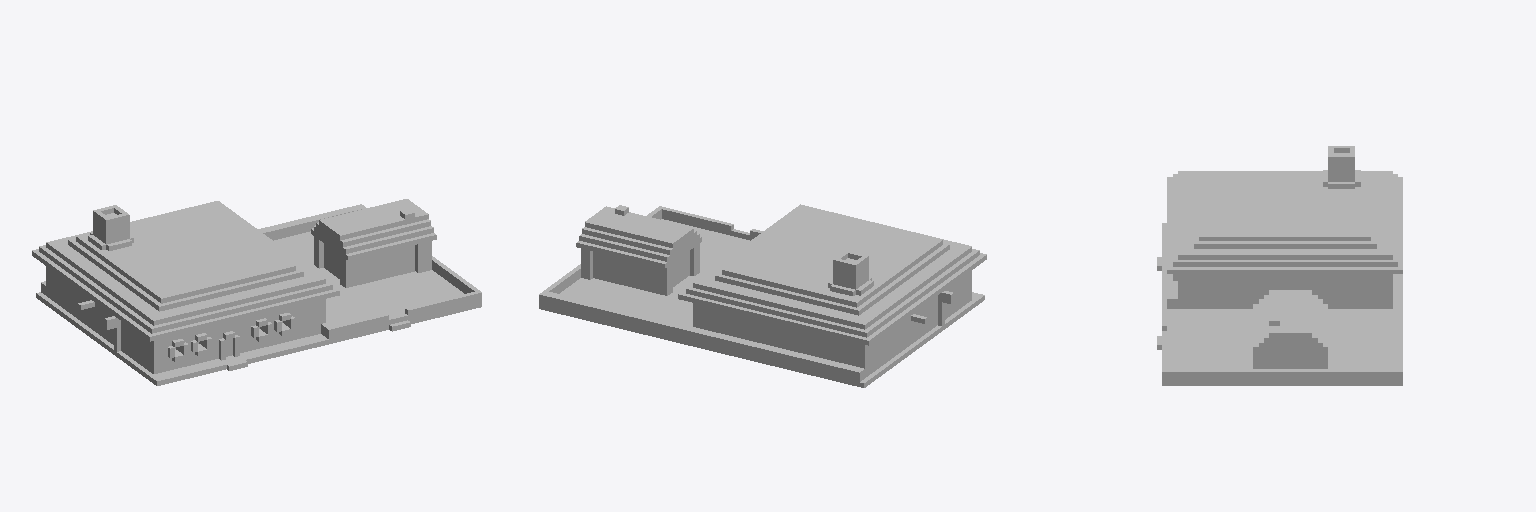
Rendered from house t3.obj.
3 views of the same model, side by side, from view 1: azimuth 30°, elevation 25°; view 2: azimuth 150°, elevation 25°; view 3: azimuth 270°, elevation 25° (orthographic).
Parts seen in each view (by area): view 1: object 1; view 2: object 1; view 3: object 1.
Boxes of the visible parts, x1=… form: object 1: x1=32, y1=199, x2=481, y2=385; object 1: x1=539, y1=204, x2=986, y2=387; object 1: x1=1157, y1=146, x2=1402, y2=385.
Size of the model in its own units: 7.2 by 2 by 4.6.